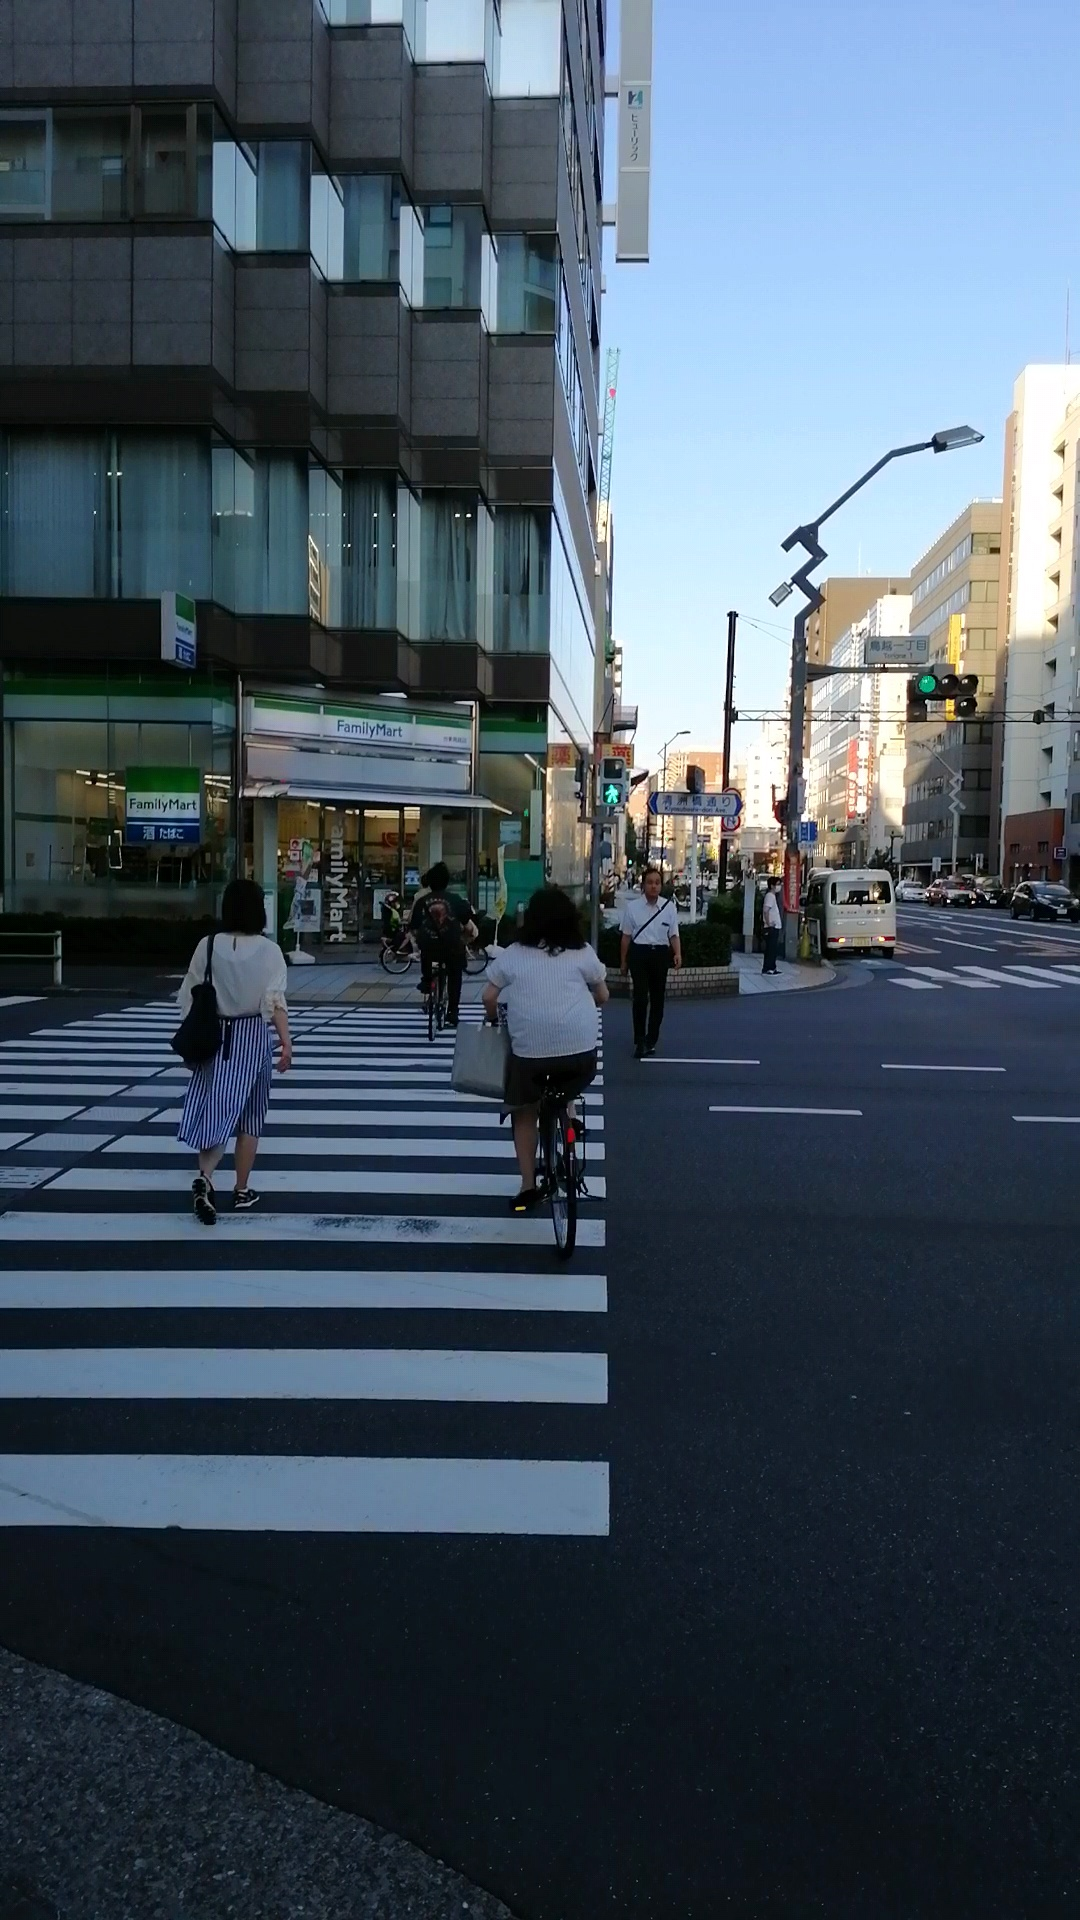green: (597, 757, 626, 810)
